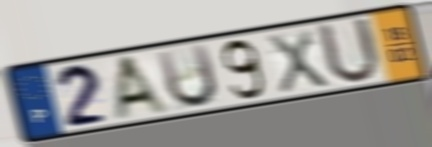2: (55, 60, 114, 133)
9: (219, 37, 268, 102)
A: (111, 52, 175, 122)
U: (314, 15, 383, 87), (154, 41, 221, 111)
X: (264, 27, 332, 97)
